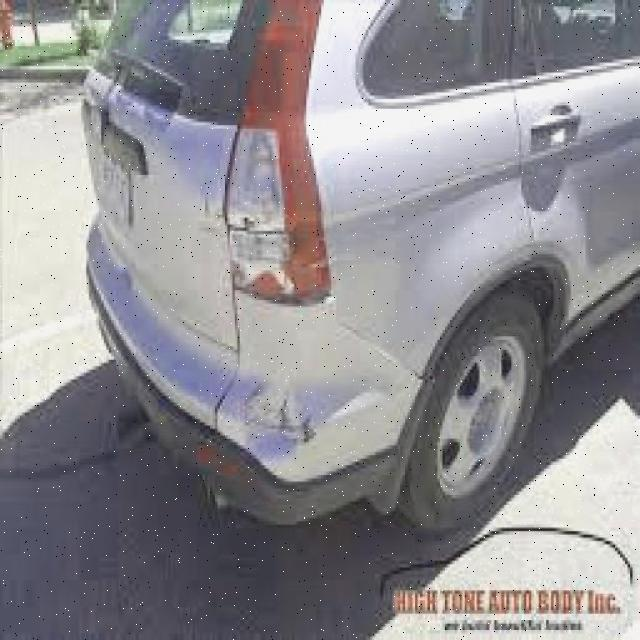car damage: (318, 284, 439, 406), (198, 178, 301, 311), (239, 378, 326, 458)
